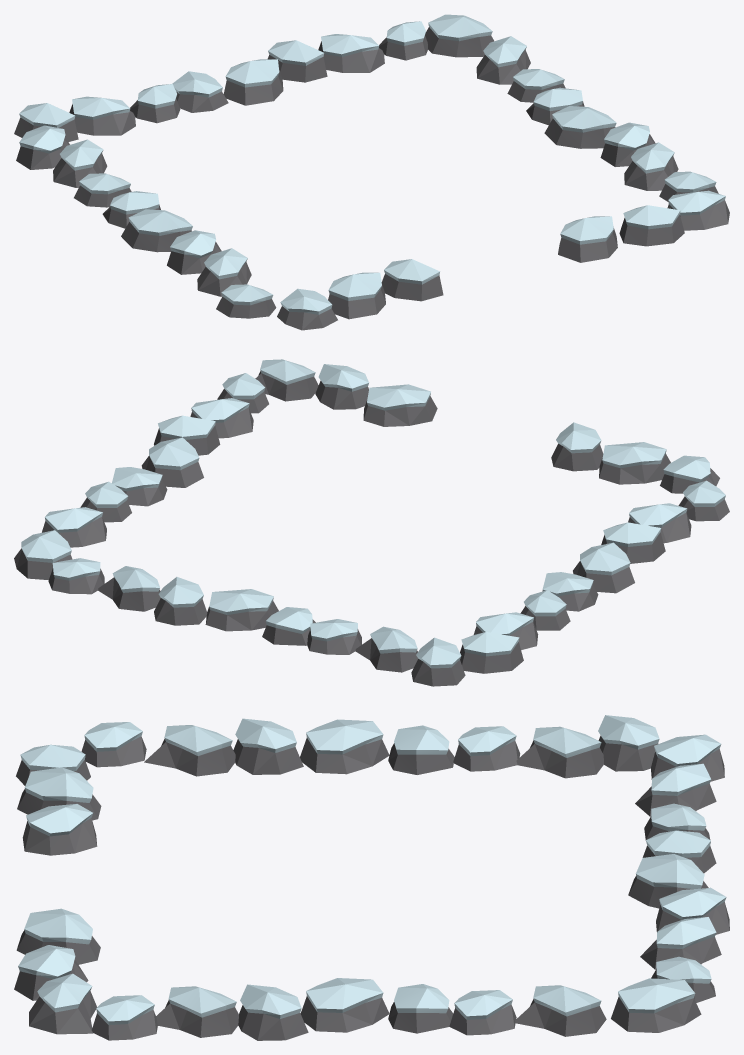
File: Rocas_Casa01.glb
3 renders of one model, top to bottom at view 1: azimuth 30°, elevation 25°; view 2: azimuth 150°, elevation 25°; view 3: azimuth 270°, elevation 25°, orthographic. The views are drawn at different scales.
Visible parts, largest first — view 1: SM_Env_House_Rocks_Small_01_Snow; view 2: SM_Env_House_Rocks_Small_01_Snow; view 3: SM_Env_House_Rocks_Small_01_Snow.
Boxes of the visible parts, x1,y1,x2,y2 form: SM_Env_House_Rocks_Small_01_Snow: [14, 14, 729, 330]; SM_Env_House_Rocks_Small_01_Snow: [14, 359, 729, 686]; SM_Env_House_Rocks_Small_01_Snow: [14, 715, 729, 1040].
Bounding box in the file's own units: 5.79 × 0.3125 × 5.79.
1 material, 1 textured.
